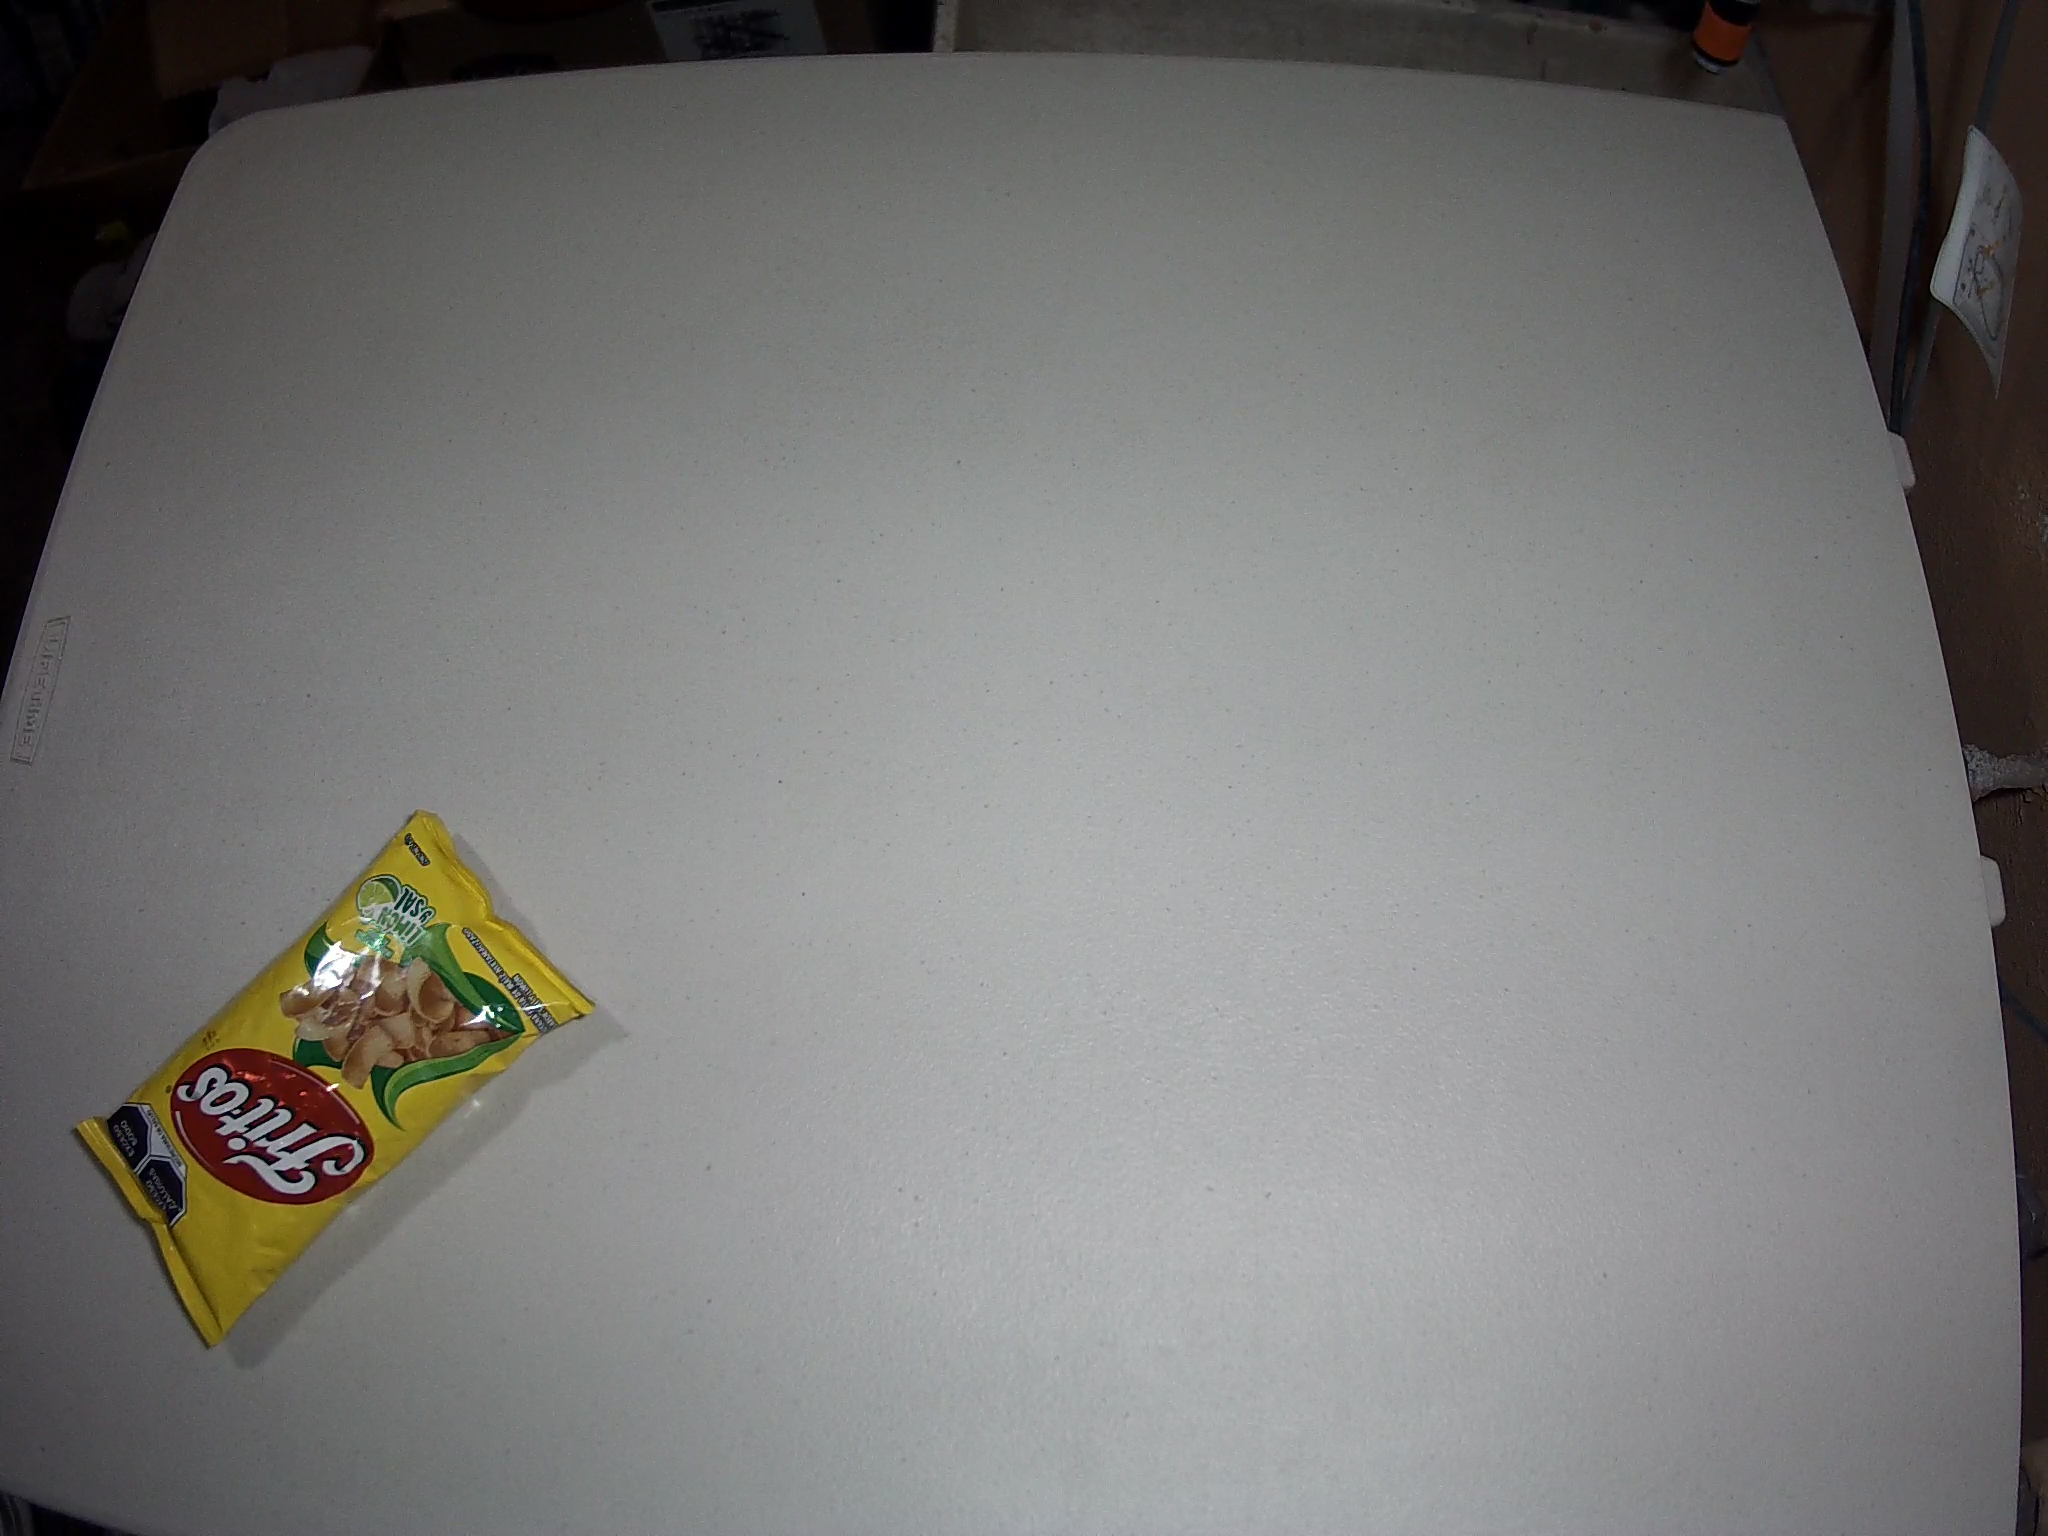FritosSalLimon_65_F: (76, 808, 600, 1350)
